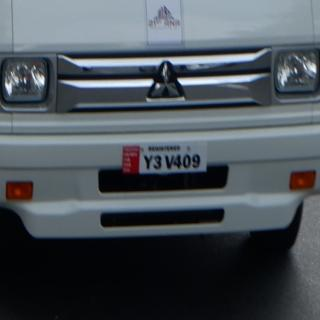license: (139, 144, 207, 175)
